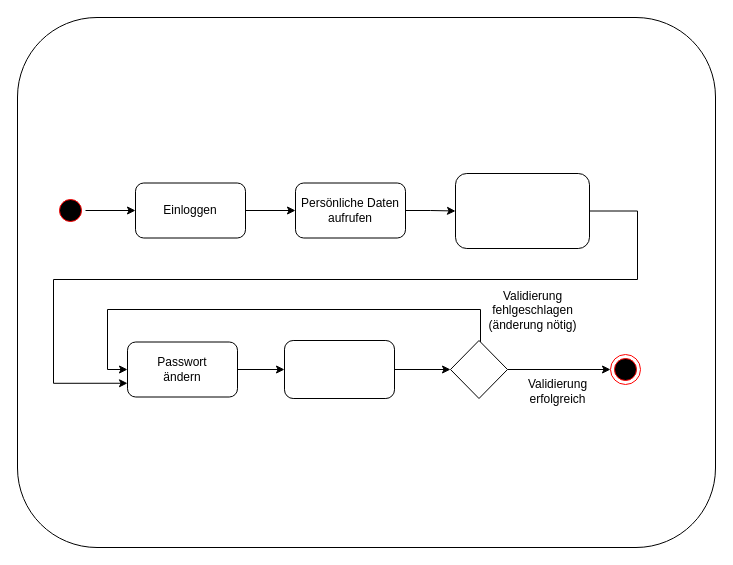
This 733x565 diagram has some shape labels left out. Each missing label, with the box of its shape:
Persönliche Daten (Passwort) Änderungsformmular aufrufen: (454, 172, 590, 248)
Änderungsformular abschiken: (284, 340, 394, 398)
